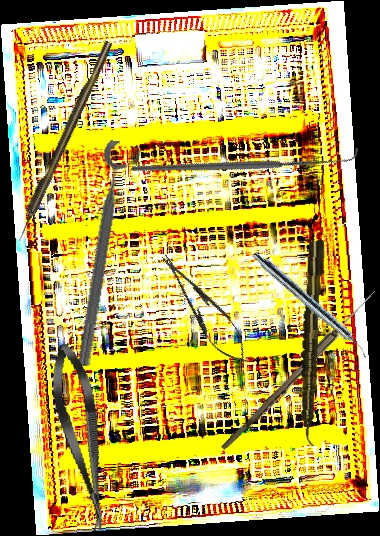Fixation Ring: (70, 139, 145, 370)
Handpiece: (249, 249, 373, 361), (296, 239, 327, 447)
Hook Surgical: (128, 57, 361, 263), (12, 39, 115, 243)
Micro Scissor: (43, 340, 120, 534)
Needle Holder: (151, 245, 258, 373)
Surgical Spoon: (220, 286, 379, 455)
